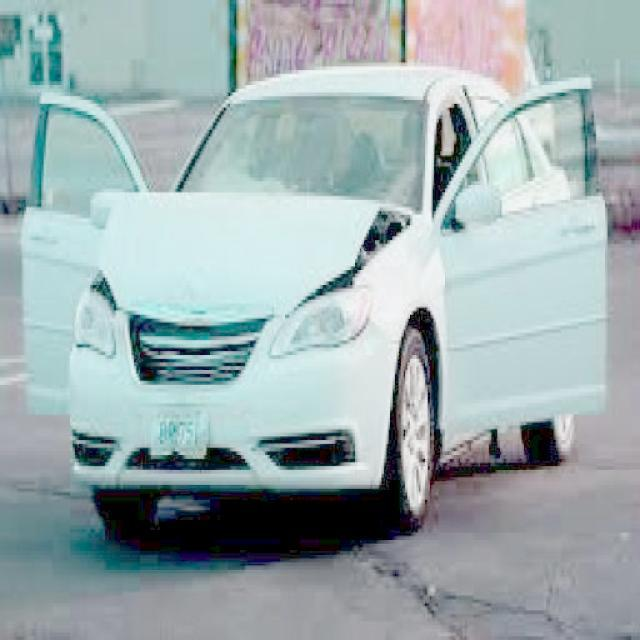car damage: (81, 192, 420, 325)
